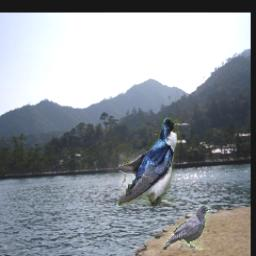Crow: (163, 206, 212, 251)
Swallow: (118, 118, 180, 207)
